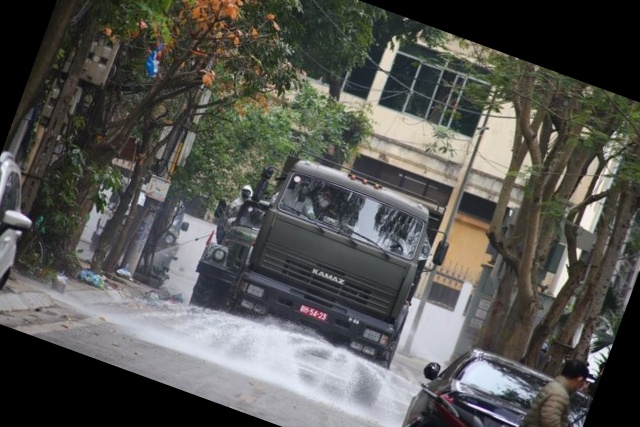plate: (299, 300, 328, 320)
